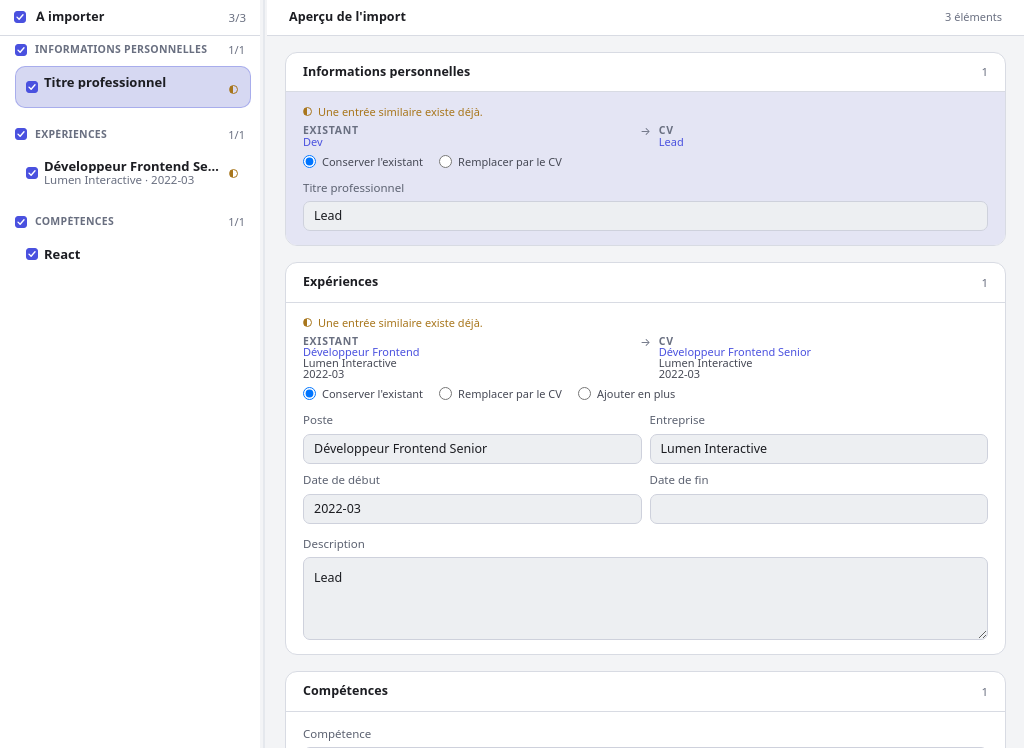
ImportReviewForm › désactive l'import si tout est ignoré
The width and height of the screenshot is (1024, 748).
Click the checkbox named "Importer toutes les données": (20, 17) top-left (14, 11), bottom-right (26, 23)
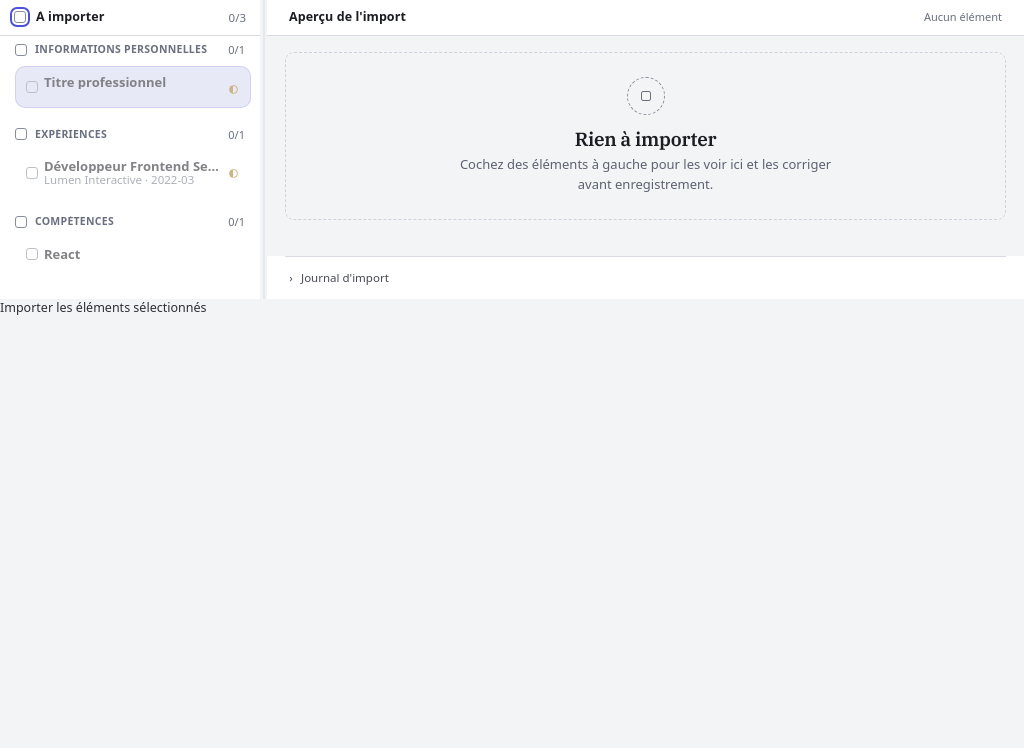
Expected: the text "Rien à importer" is shown, top-left (575, 128), bottom-right (716, 151)
Expected: the button "Importer les éléments sélectionnés" is disabled, top-left (0, 298), bottom-right (206, 316)
